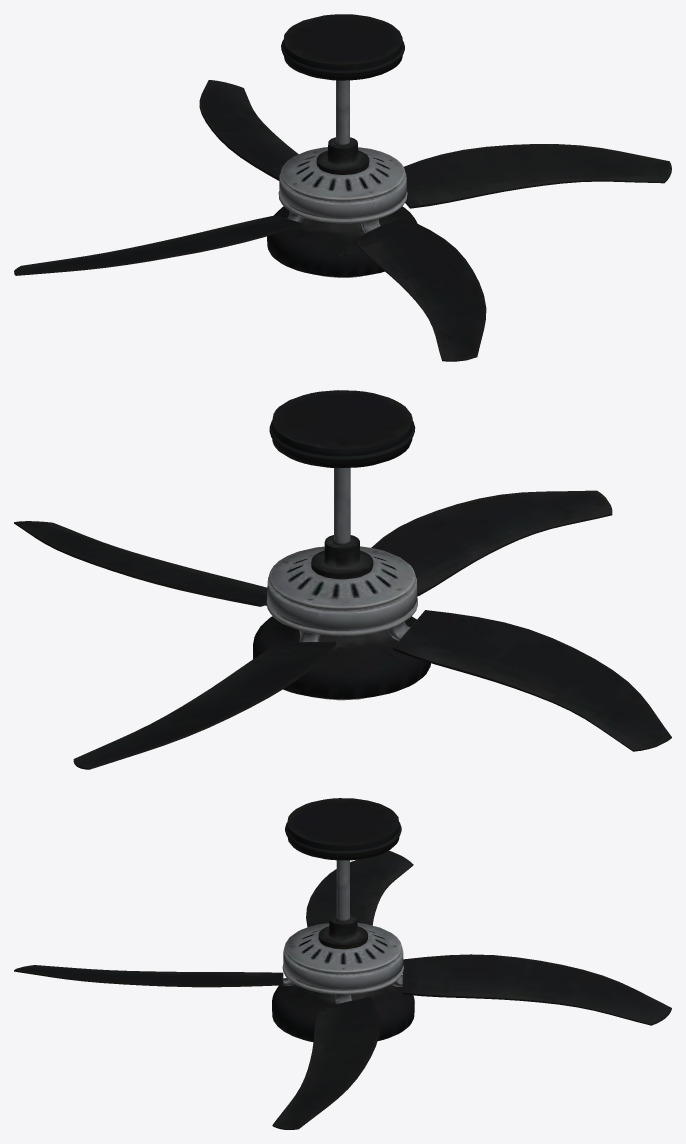
The model's file is ceiling_fan.glb.
3 renders of one model, top to bottom at view 1: azimuth 30°, elevation 25°; view 2: azimuth 150°, elevation 25°; view 3: azimuth 270°, elevation 25°, orthographic. The views are drawn at different scales.
Visible parts, largest first — view 1: ceiling_fan; view 2: ceiling_fan; view 3: ceiling_fan.
Part boxes in pixels (box(x1,y1,x2,y2)): ceiling_fan: box(14, 14, 671, 361); ceiling_fan: box(14, 390, 671, 769); ceiling_fan: box(14, 798, 671, 1129).
Size of the model in its own units: 1.46 by 0.5163 by 1.46.
1 material, 1 textured.
